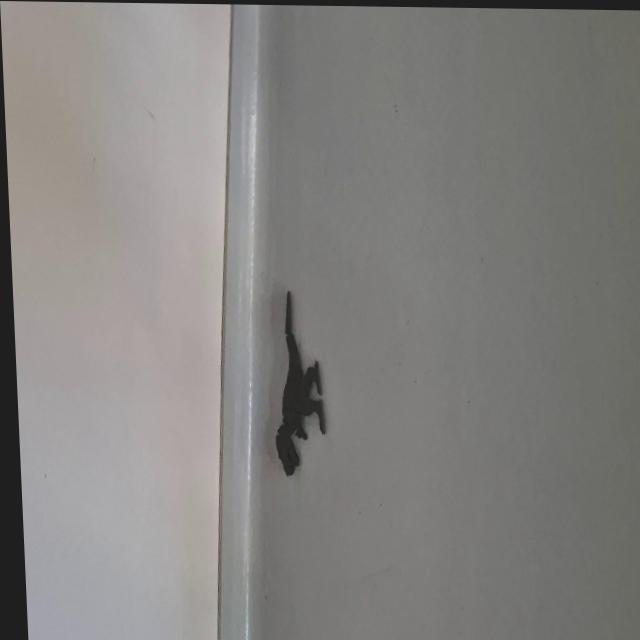dino: (268, 288, 328, 477)
